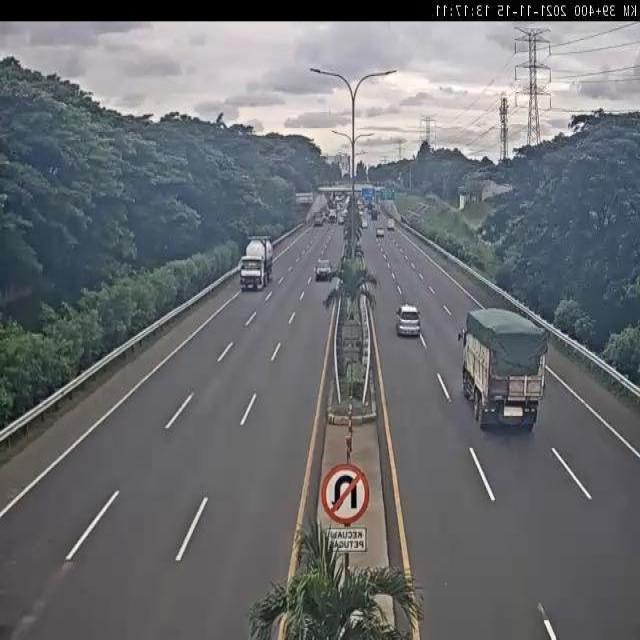Car: (396, 307, 422, 338), (314, 260, 333, 282), (375, 227, 385, 238)
Truck: (457, 308, 548, 433), (239, 236, 273, 290)
